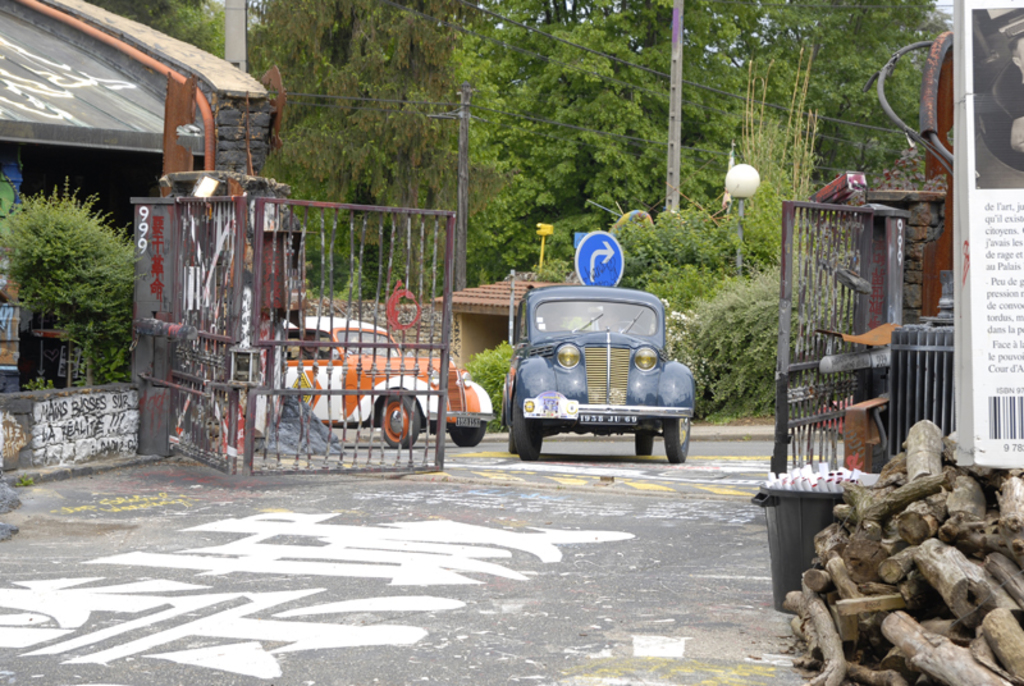Tree: (455, 0, 951, 279), (239, 10, 480, 307)
